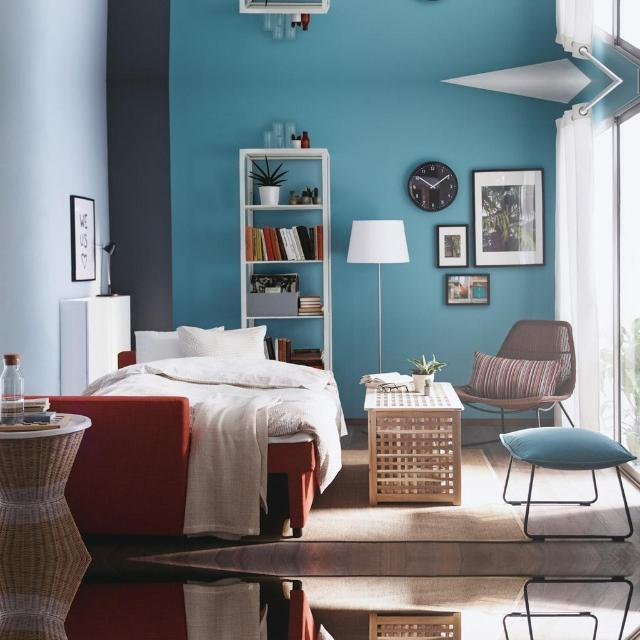obstacle: (90, 336, 342, 546), (2, 348, 94, 556), (493, 417, 640, 541), (90, 569, 341, 640), (451, 316, 583, 429), (363, 372, 463, 508), (493, 576, 640, 640), (2, 560, 93, 640), (363, 608, 463, 640)
